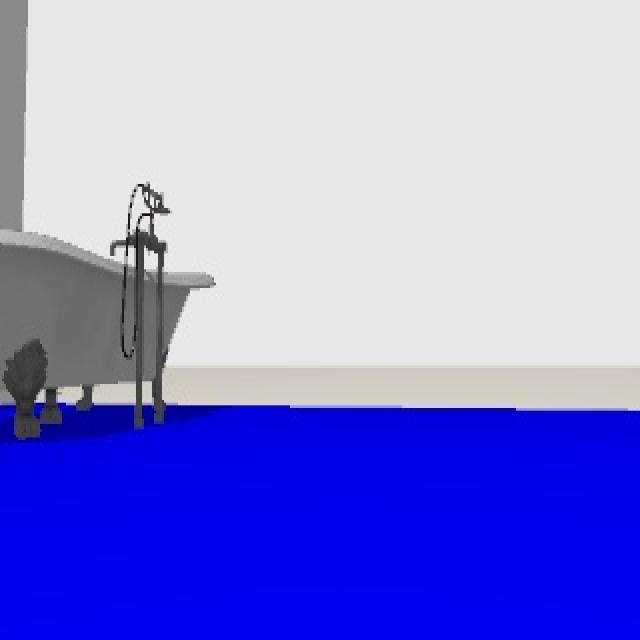bathtub: (0, 183, 219, 444)
